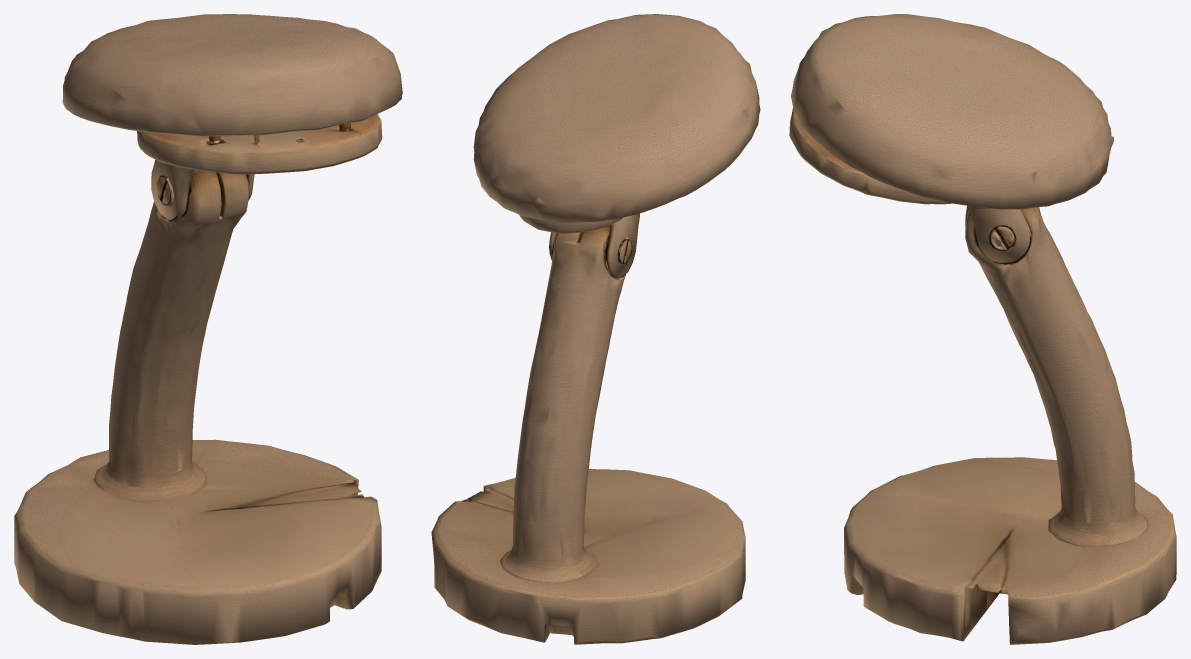
Rendered from stand_lamp_01.glb.
The picture shows the model from 3 angles, left to right: view 1: azimuth 30°, elevation 25°; view 2: azimuth 150°, elevation 25°; view 3: azimuth 270°, elevation 25°; orthographic projection. The views are drawn at different scales.
Visible parts, largest first — view 1: tripo_part_2, tripo_part_3, tripo_part_1, tripo_part_0, tripo_part_4; view 2: tripo_part_3, tripo_part_2, tripo_part_1, tripo_part_4, tripo_part_0; view 3: tripo_part_3, tripo_part_2, tripo_part_1, tripo_part_0, tripo_part_4.
Part boxes in pixels (box(x1,y1,x2,y2)): tripo_part_2: box(14, 439, 381, 644); tripo_part_3: box(62, 14, 402, 136); tripo_part_1: box(93, 170, 248, 501); tripo_part_0: box(137, 114, 382, 174); tripo_part_4: box(151, 159, 254, 221); tripo_part_3: box(473, 14, 760, 222); tripo_part_2: box(431, 469, 745, 644); tripo_part_1: box(500, 225, 625, 582); tripo_part_4: box(549, 213, 639, 278); tripo_part_0: box(519, 215, 623, 234); tripo_part_3: box(791, 14, 1114, 209); tripo_part_2: box(844, 457, 1176, 644); tripo_part_1: box(965, 206, 1147, 546); tripo_part_0: box(789, 108, 952, 204); tripo_part_4: box(967, 205, 1031, 264).
Size of the model in its own units: 0.5698 by 1 by 0.6635.
11 materials, 11 textured.
